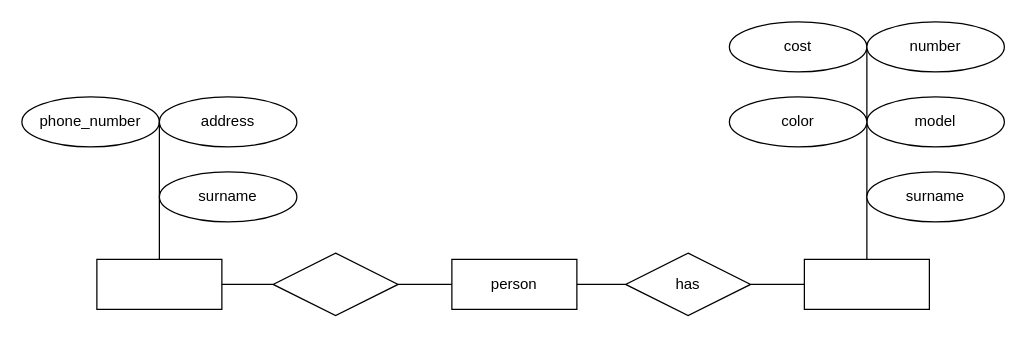
The diagram is 1026 pixels wide and 338 high, and some of its shapes have lost their labels. The shapes that lost their labels are listed below. From the top down, each one's box as (x1, y1, x2, y2) in pixels, then its label:
(96, 258, 222, 309): phone_dir
(272, 252, 398, 316): included in
(803, 258, 929, 309): car
